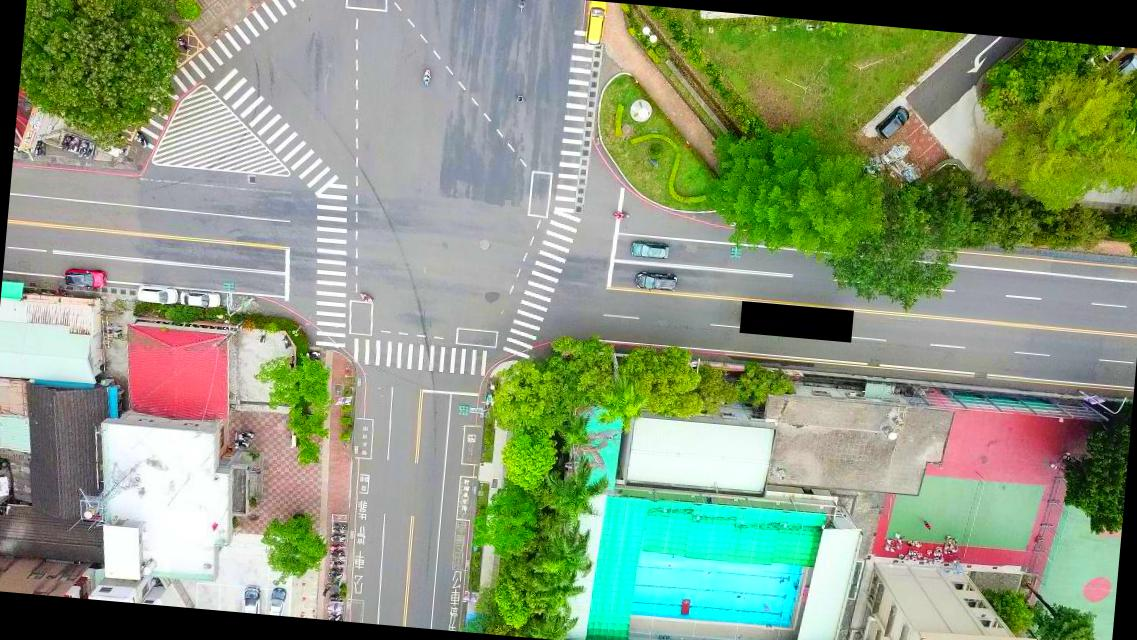vehicle: (874, 105, 912, 141), (633, 268, 678, 294), (134, 284, 178, 305), (629, 238, 670, 260), (64, 268, 108, 288), (179, 291, 221, 310), (240, 584, 264, 614), (266, 586, 288, 616), (1116, 51, 1136, 81)
